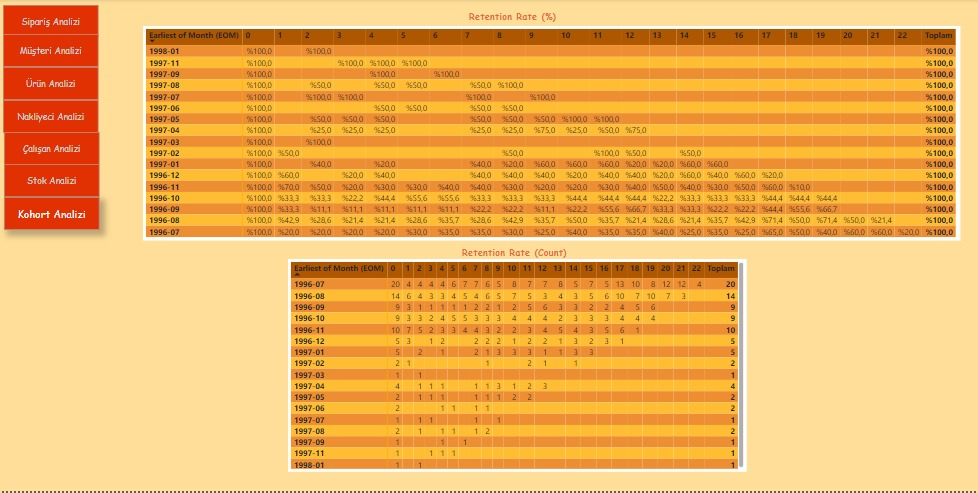

This screenshot's page, from the dashboard's own definition file:
{"tool":"powerbi","page":{"name":"Kohort Analizi","canvas":[1655,830],"ordinal":6},"visuals":[{"type":"shape","box":[5.9,9.3,161,55.6],"z":0},{"type":"shape","box":[5.9,59.1,161,55.6],"z":1000},{"type":"shape","box":[5.9,114.7,161,55.6],"z":2000},{"type":"shape","box":[5.9,170.3,161,55.6],"z":3000},{"type":"shape","box":[6.1,223.9,161,55.6],"z":4000},{"type":"shape","box":[7.3,278,161,55.6],"z":5000},{"type":"shape","box":[7.3,333.7,161,55.6],"z":6000},{"type":"pivotTable","fields":{"Rows":["orders.Earliest of Month (EOM)"],"Columns":["Kohort.Value"],"Values":["Kohort.Customer Retention %"]},"box":[241.7,45.8,1379.3,361.8],"z":7000},{"type":"textbox","box":[786.8,11.1,274.9,49],"z":8000},{"type":"textbox","box":[774.3,409.3,274.2,48.3],"z":9000},{"type":"pivotTable","fields":{"Rows":["orders.Earliest of Month (EOM)"],"Columns":["Kohort.Value"],"Values":["Kohort.Customer Retention #1"]},"box":[486.6,438.3,774.3,359.1],"z":10000}]}

Visuals, with their boxes in screenshot pixels (x1, y1, x2, y2):
shape: (3, 5, 97, 38)
shape: (3, 34, 97, 67)
shape: (3, 67, 97, 99)
shape: (3, 99, 97, 132)
shape: (4, 130, 97, 163)
shape: (4, 162, 98, 194)
shape: (4, 194, 98, 227)
pivotTable - orders.Earliest of Month (EOM) x Kohort.Value: (141, 27, 945, 238)
textbox: (459, 6, 619, 35)
textbox: (451, 239, 611, 267)
pivotTable - orders.Earliest of Month (EOM) x Kohort.Value: (284, 255, 735, 465)
